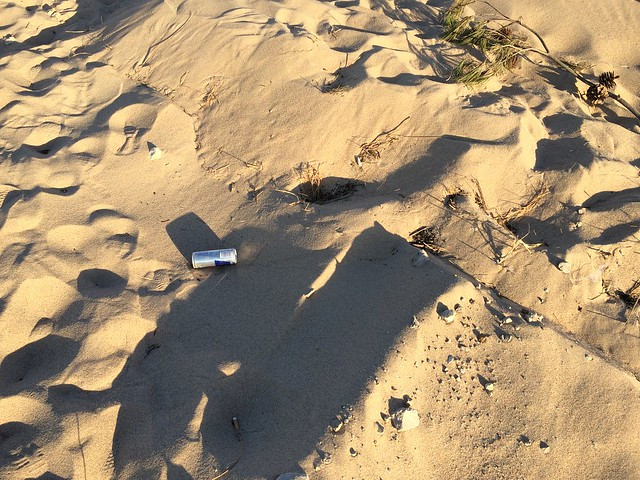can: (187, 238, 242, 273)
